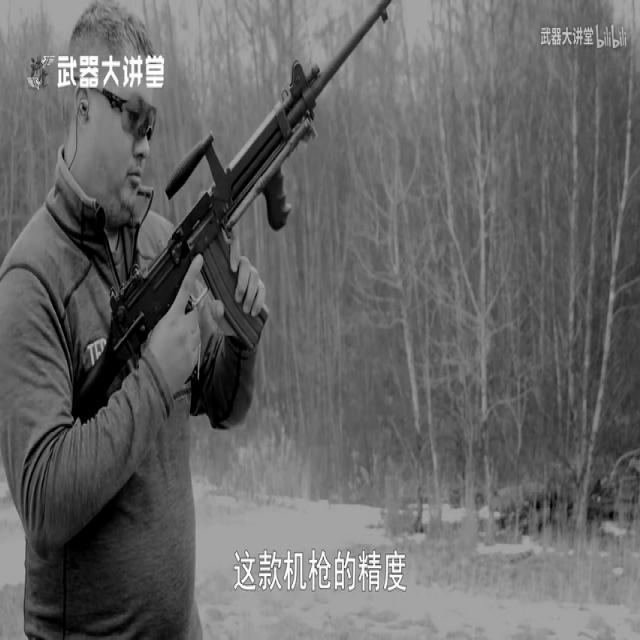Sniper: (59, 0, 409, 469)
